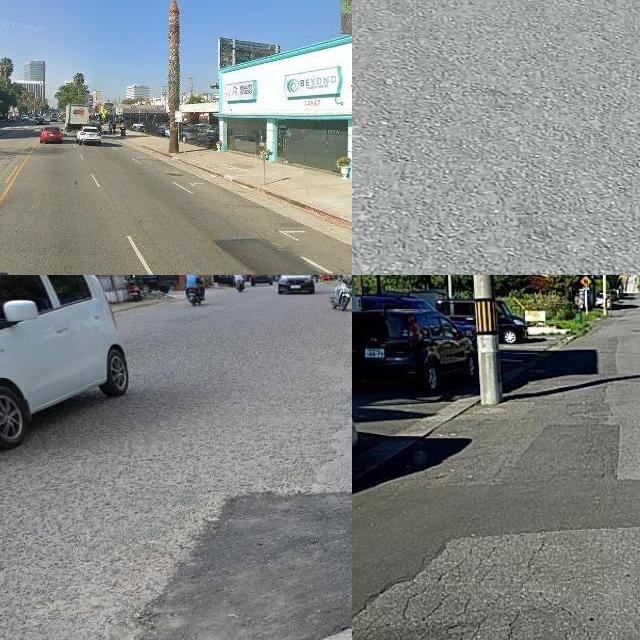Sambungan: (352, 420, 640, 629), (136, 494, 352, 640), (217, 236, 333, 275)
